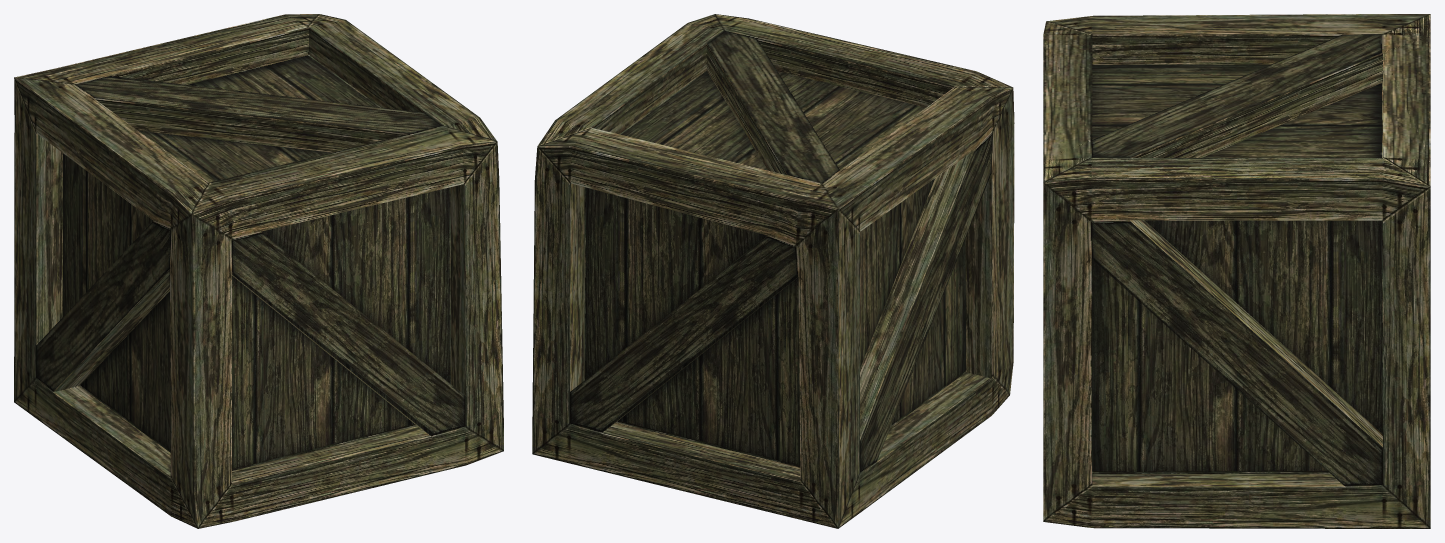
The model's file is crate.fbx.
3 views of the same model, side by side, from view 1: azimuth 30°, elevation 25°; view 2: azimuth 150°, elevation 25°; view 3: azimuth 270°, elevation 25° (orthographic). The views are drawn at different scales.
Visible parts, largest first — view 1: pCube1; view 2: pCube1; view 3: pCube1.
Boxes of the visible parts, <box> form: pCube1: <box>14,14,503,528</box>; pCube1: <box>532,14,1014,528</box>; pCube1: <box>1043,14,1430,528</box>.
Bounding box in the file's own units: 5.85 × 5.85 × 5.85.
Materials: 1 (1 with a texture image).
